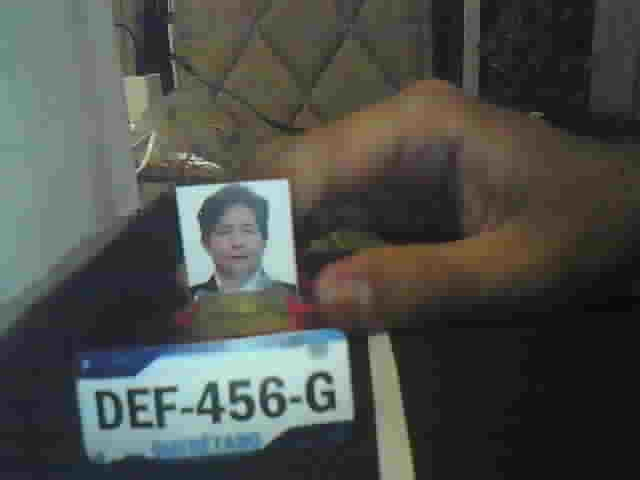PLACA: (68, 323, 358, 470)
ROSTRO: (189, 178, 299, 299)
